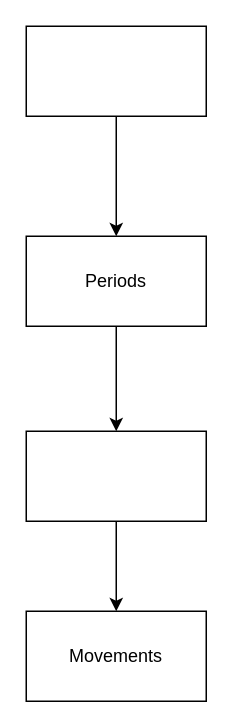
The diagram is 233 pixels wide and 728 high, and some of its shapes have lost their labels. Here are the shapes that lost their labels. From the top down, the box of each, then its label:
(25, 25, 206, 116): Events
(25, 430, 206, 521): Monthly
